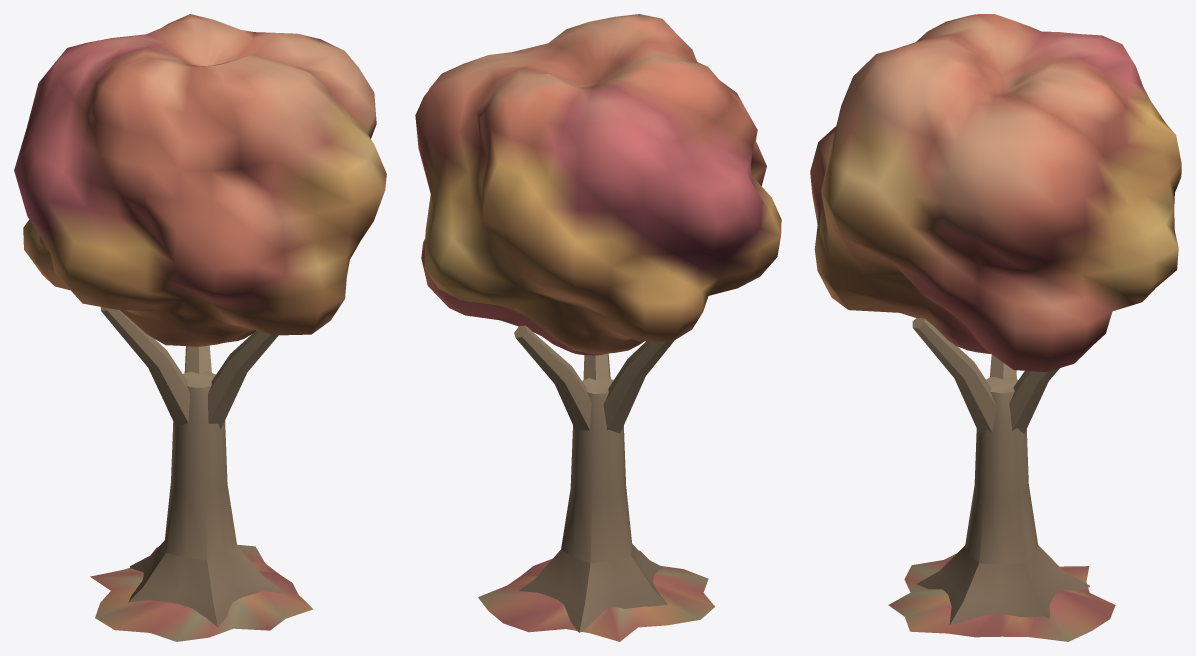
The model's file is autumn_b.glb.
3 renders of one model, left to right at view 1: azimuth 30°, elevation 25°; view 2: azimuth 150°, elevation 25°; view 3: azimuth 270°, elevation 25°, orthographic. The views are drawn at different scales.
Parts seen in each view (by area): view 1: autumn_b; view 2: autumn_b; view 3: autumn_b.
Boxes of the visible parts, box(x1,y1,x2,y2) form: autumn_b: box(14, 14, 386, 641); autumn_b: box(415, 14, 781, 641); autumn_b: box(810, 14, 1181, 641).
Bounding box in the file's own units: 15.65 × 24.68 × 15.06.
